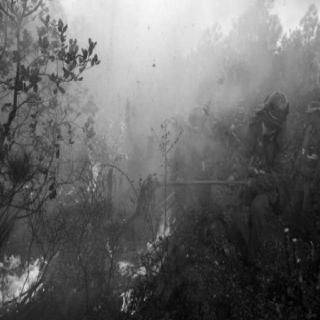Fire: (5, 109, 182, 312)
